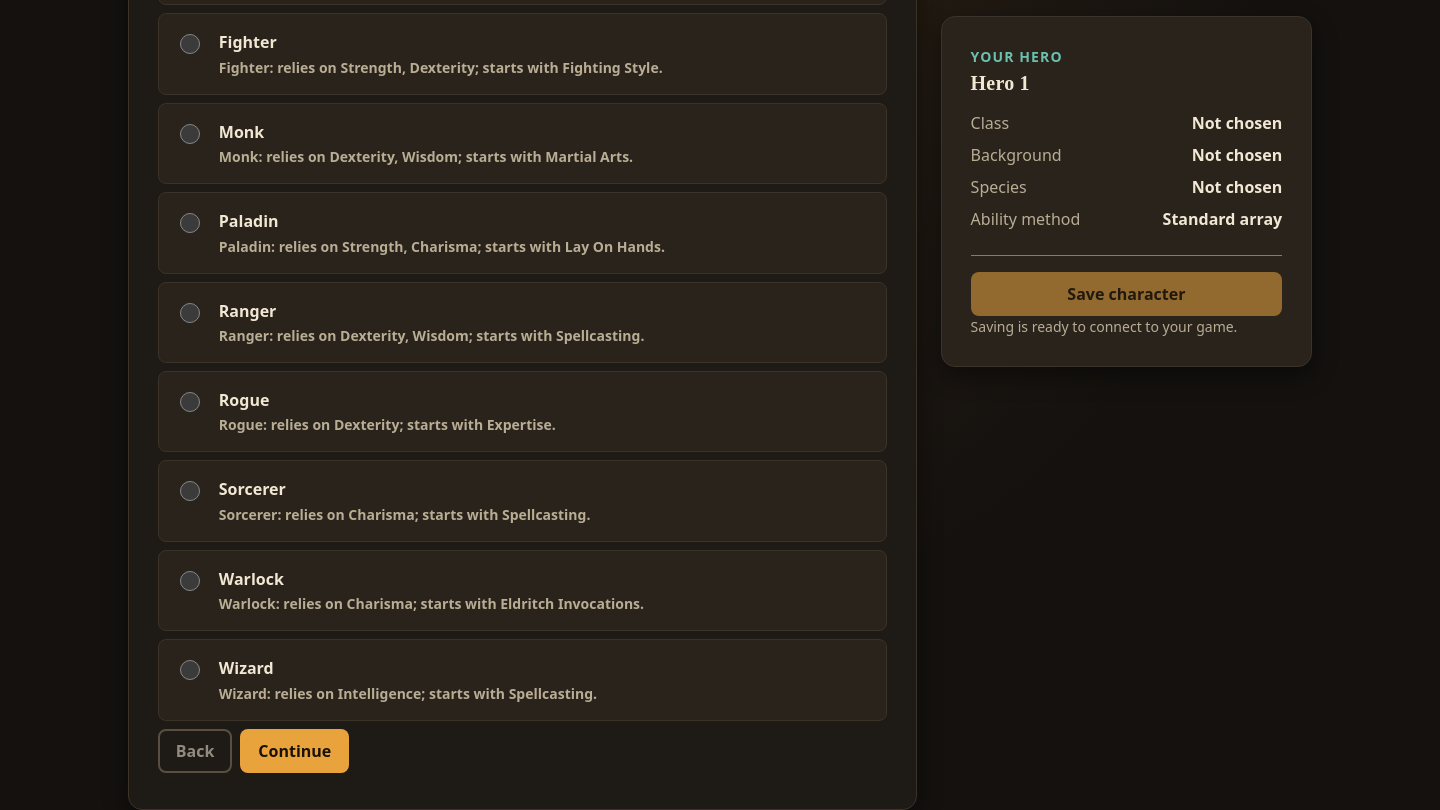
it: the incomplete-choices error appears after an attempted Continue
(page scrolled)
Click the button "Continue": (295, 750) [240,728,349,772]
(page scrolled)
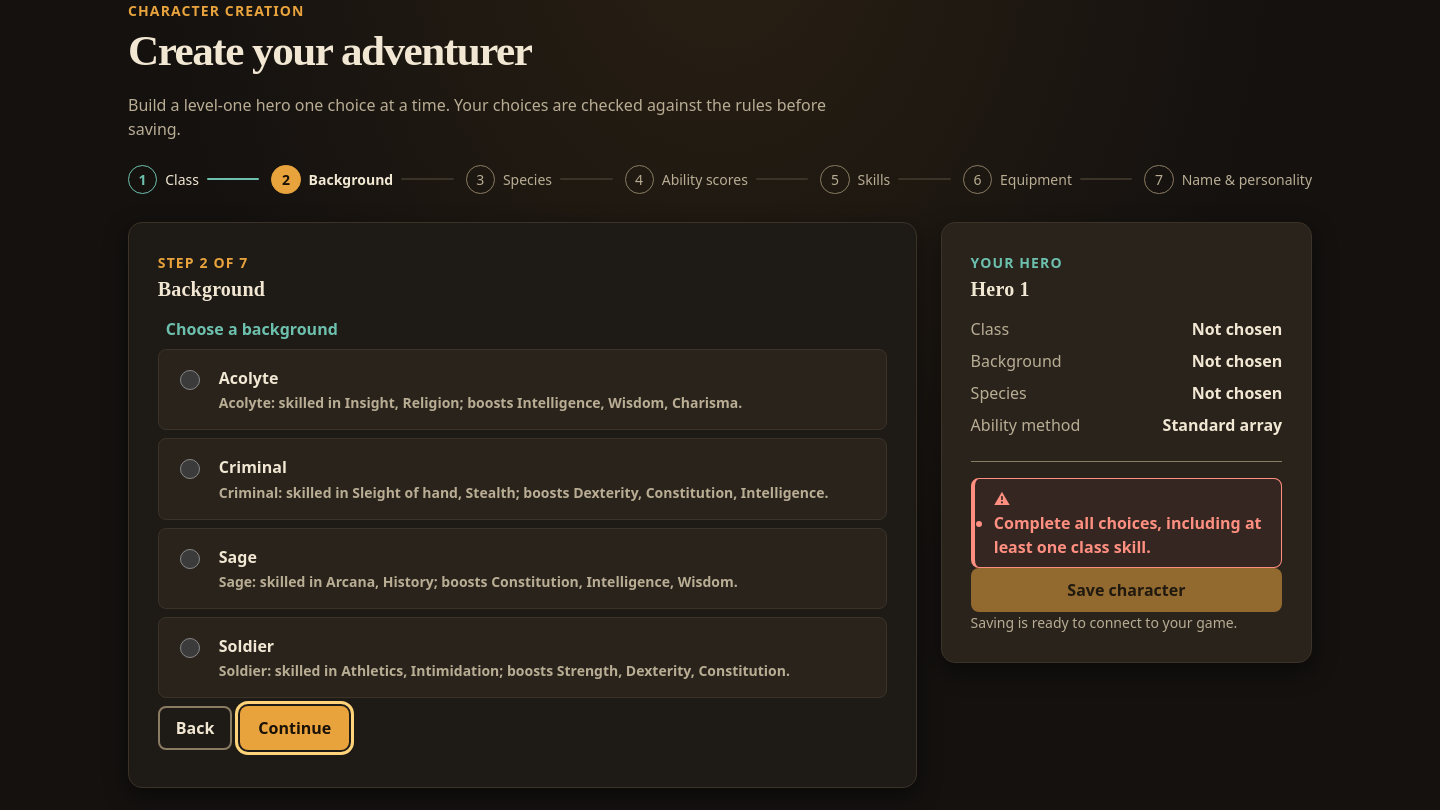
Expected: the list item "Complete all choices, including at least one class skill." is shown, [994,511,1265,559]
